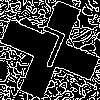L: (25, 25, 69, 78)
